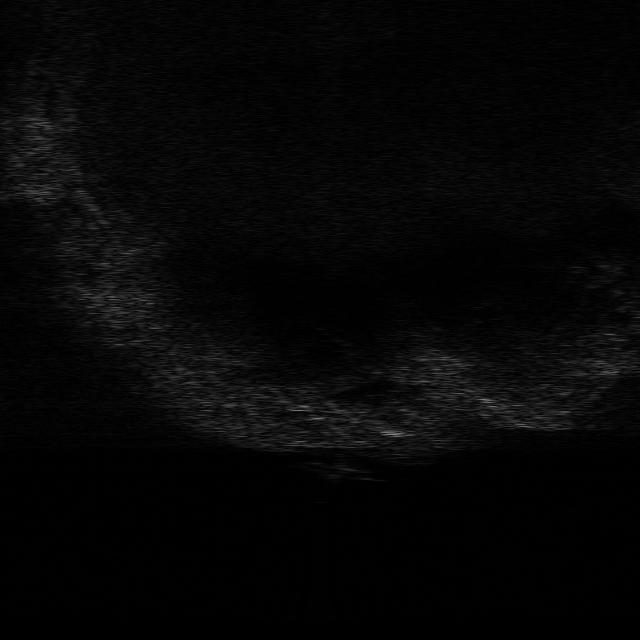plane: (298, 457, 382, 484)
